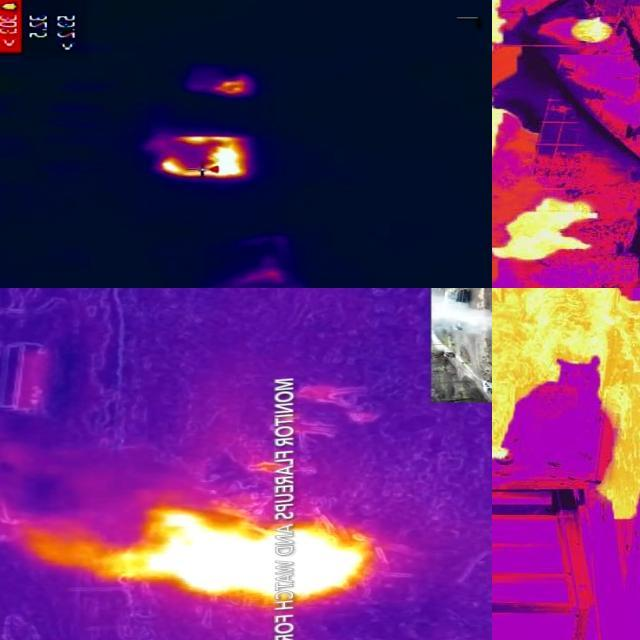fire: (491, 289, 640, 523), (91, 506, 372, 602), (498, 196, 609, 265), (158, 134, 250, 181), (569, 14, 619, 53), (493, 104, 513, 160), (207, 77, 254, 99), (494, 1, 516, 48)
